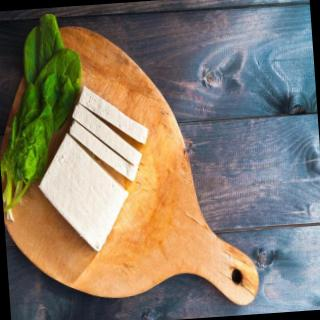Tahu: (7, 88, 169, 251)
